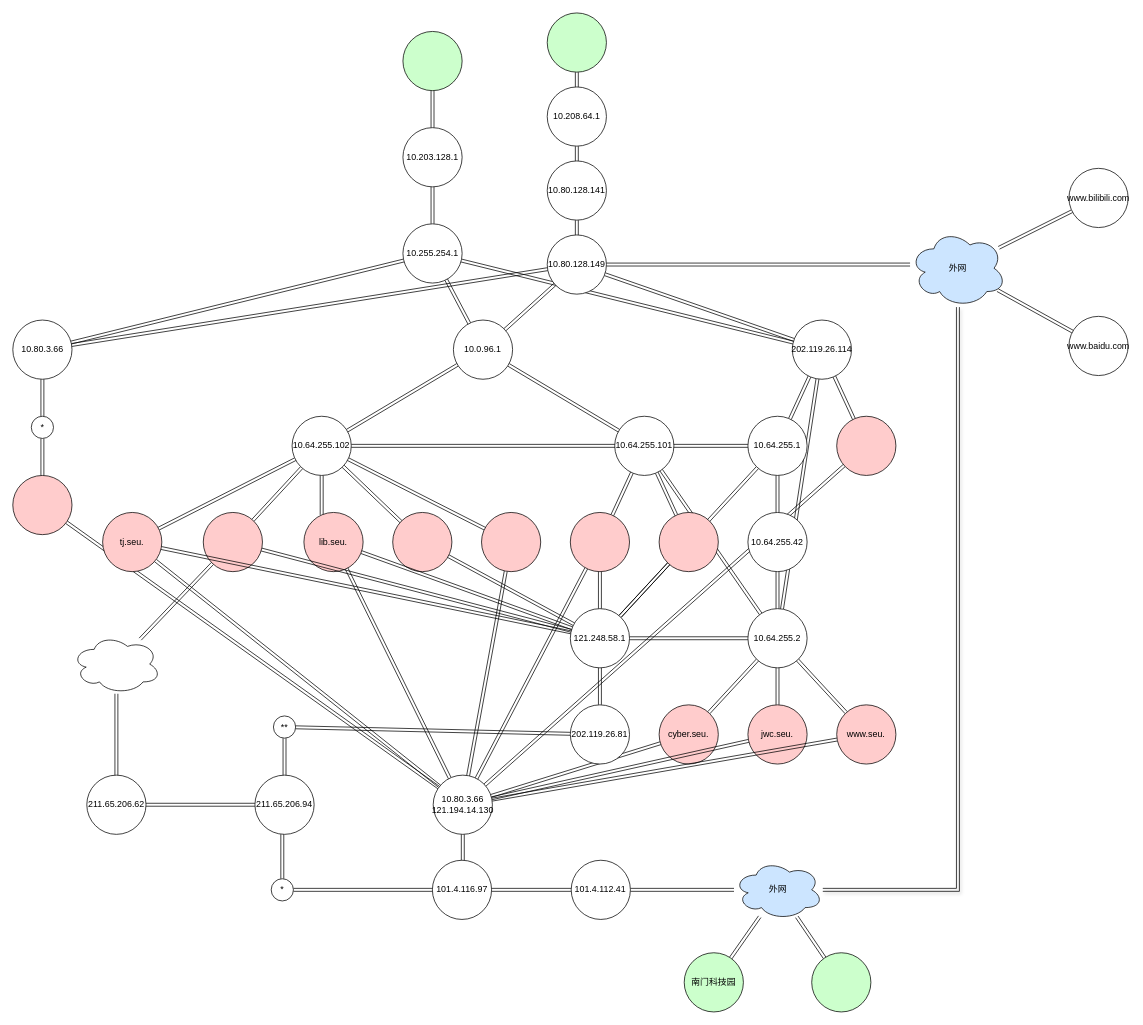
The diagram is 1143 pixels wide and 1025 high, and some of its shapes have lost their labels. Each missing label, with the centre of its shape:
dekt.seu.: pixel 688 542
ehall.seu.: pixel 511 542
gsas.seu.: pixel 42 505
newxk.seu.: pixel 232 542
nic.seu.: pixel 600 542
phylab.seu.: pixel 866 445
pub.seu.: pixel 422 542
教学楼: pixel 432 61
梅园4: pixel 576 42
苏州: pixel 841 982
